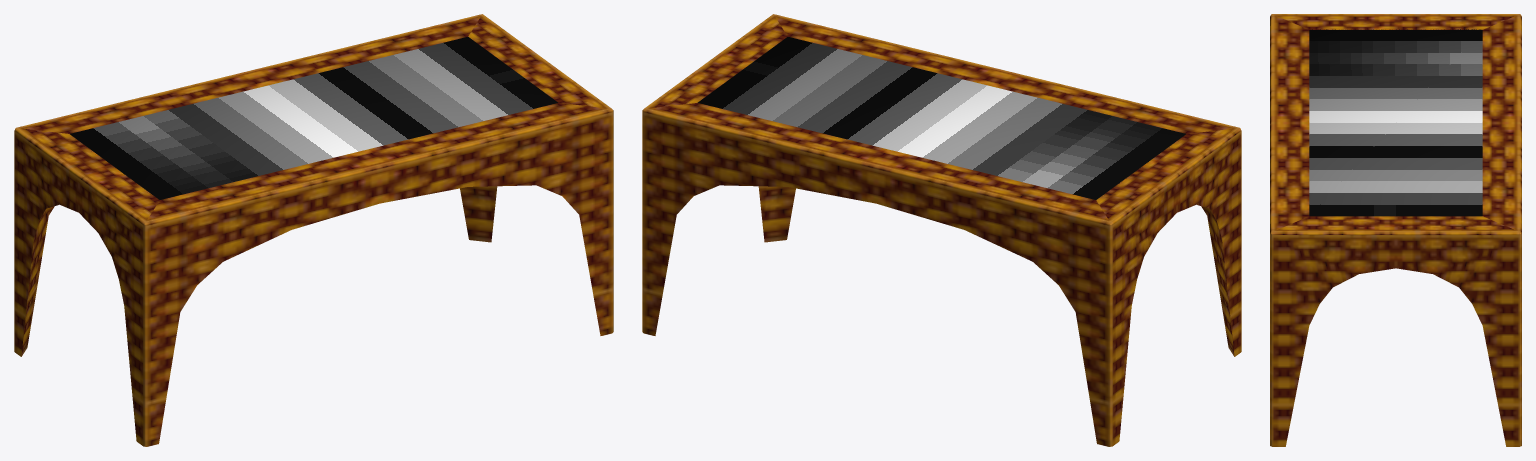
The model's file is rmk_rst_tableM_mtl.dae.
The picture shows the model from 3 angles, left to right: view 1: azimuth 30°, elevation 25°; view 2: azimuth 150°, elevation 25°; view 3: azimuth 270°, elevation 25°; orthographic projection. The views are drawn at different scales.
Parts seen in each view (by area): view 1: rmk_rst_tableM_mtl; view 2: rmk_rst_tableM_mtl; view 3: rmk_rst_tableM_mtl.
Part boxes in pixels (left/top/right/bottom): rmk_rst_tableM_mtl: left=14, top=14, right=613, bottom=446; rmk_rst_tableM_mtl: left=642, top=14, right=1241, bottom=446; rmk_rst_tableM_mtl: left=1270, top=14, right=1521, bottom=446.
Size of the model in its own units: 52.8 by 24 by 25.6.
Materials: 2 (2 with a texture image).
